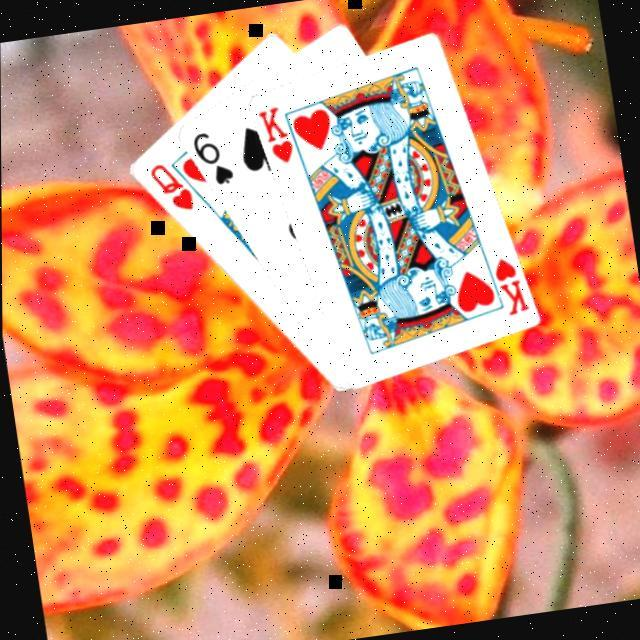6S: (185, 124, 235, 189)
KH: (486, 250, 530, 318), (252, 100, 295, 166)
QH: (143, 155, 194, 217)
